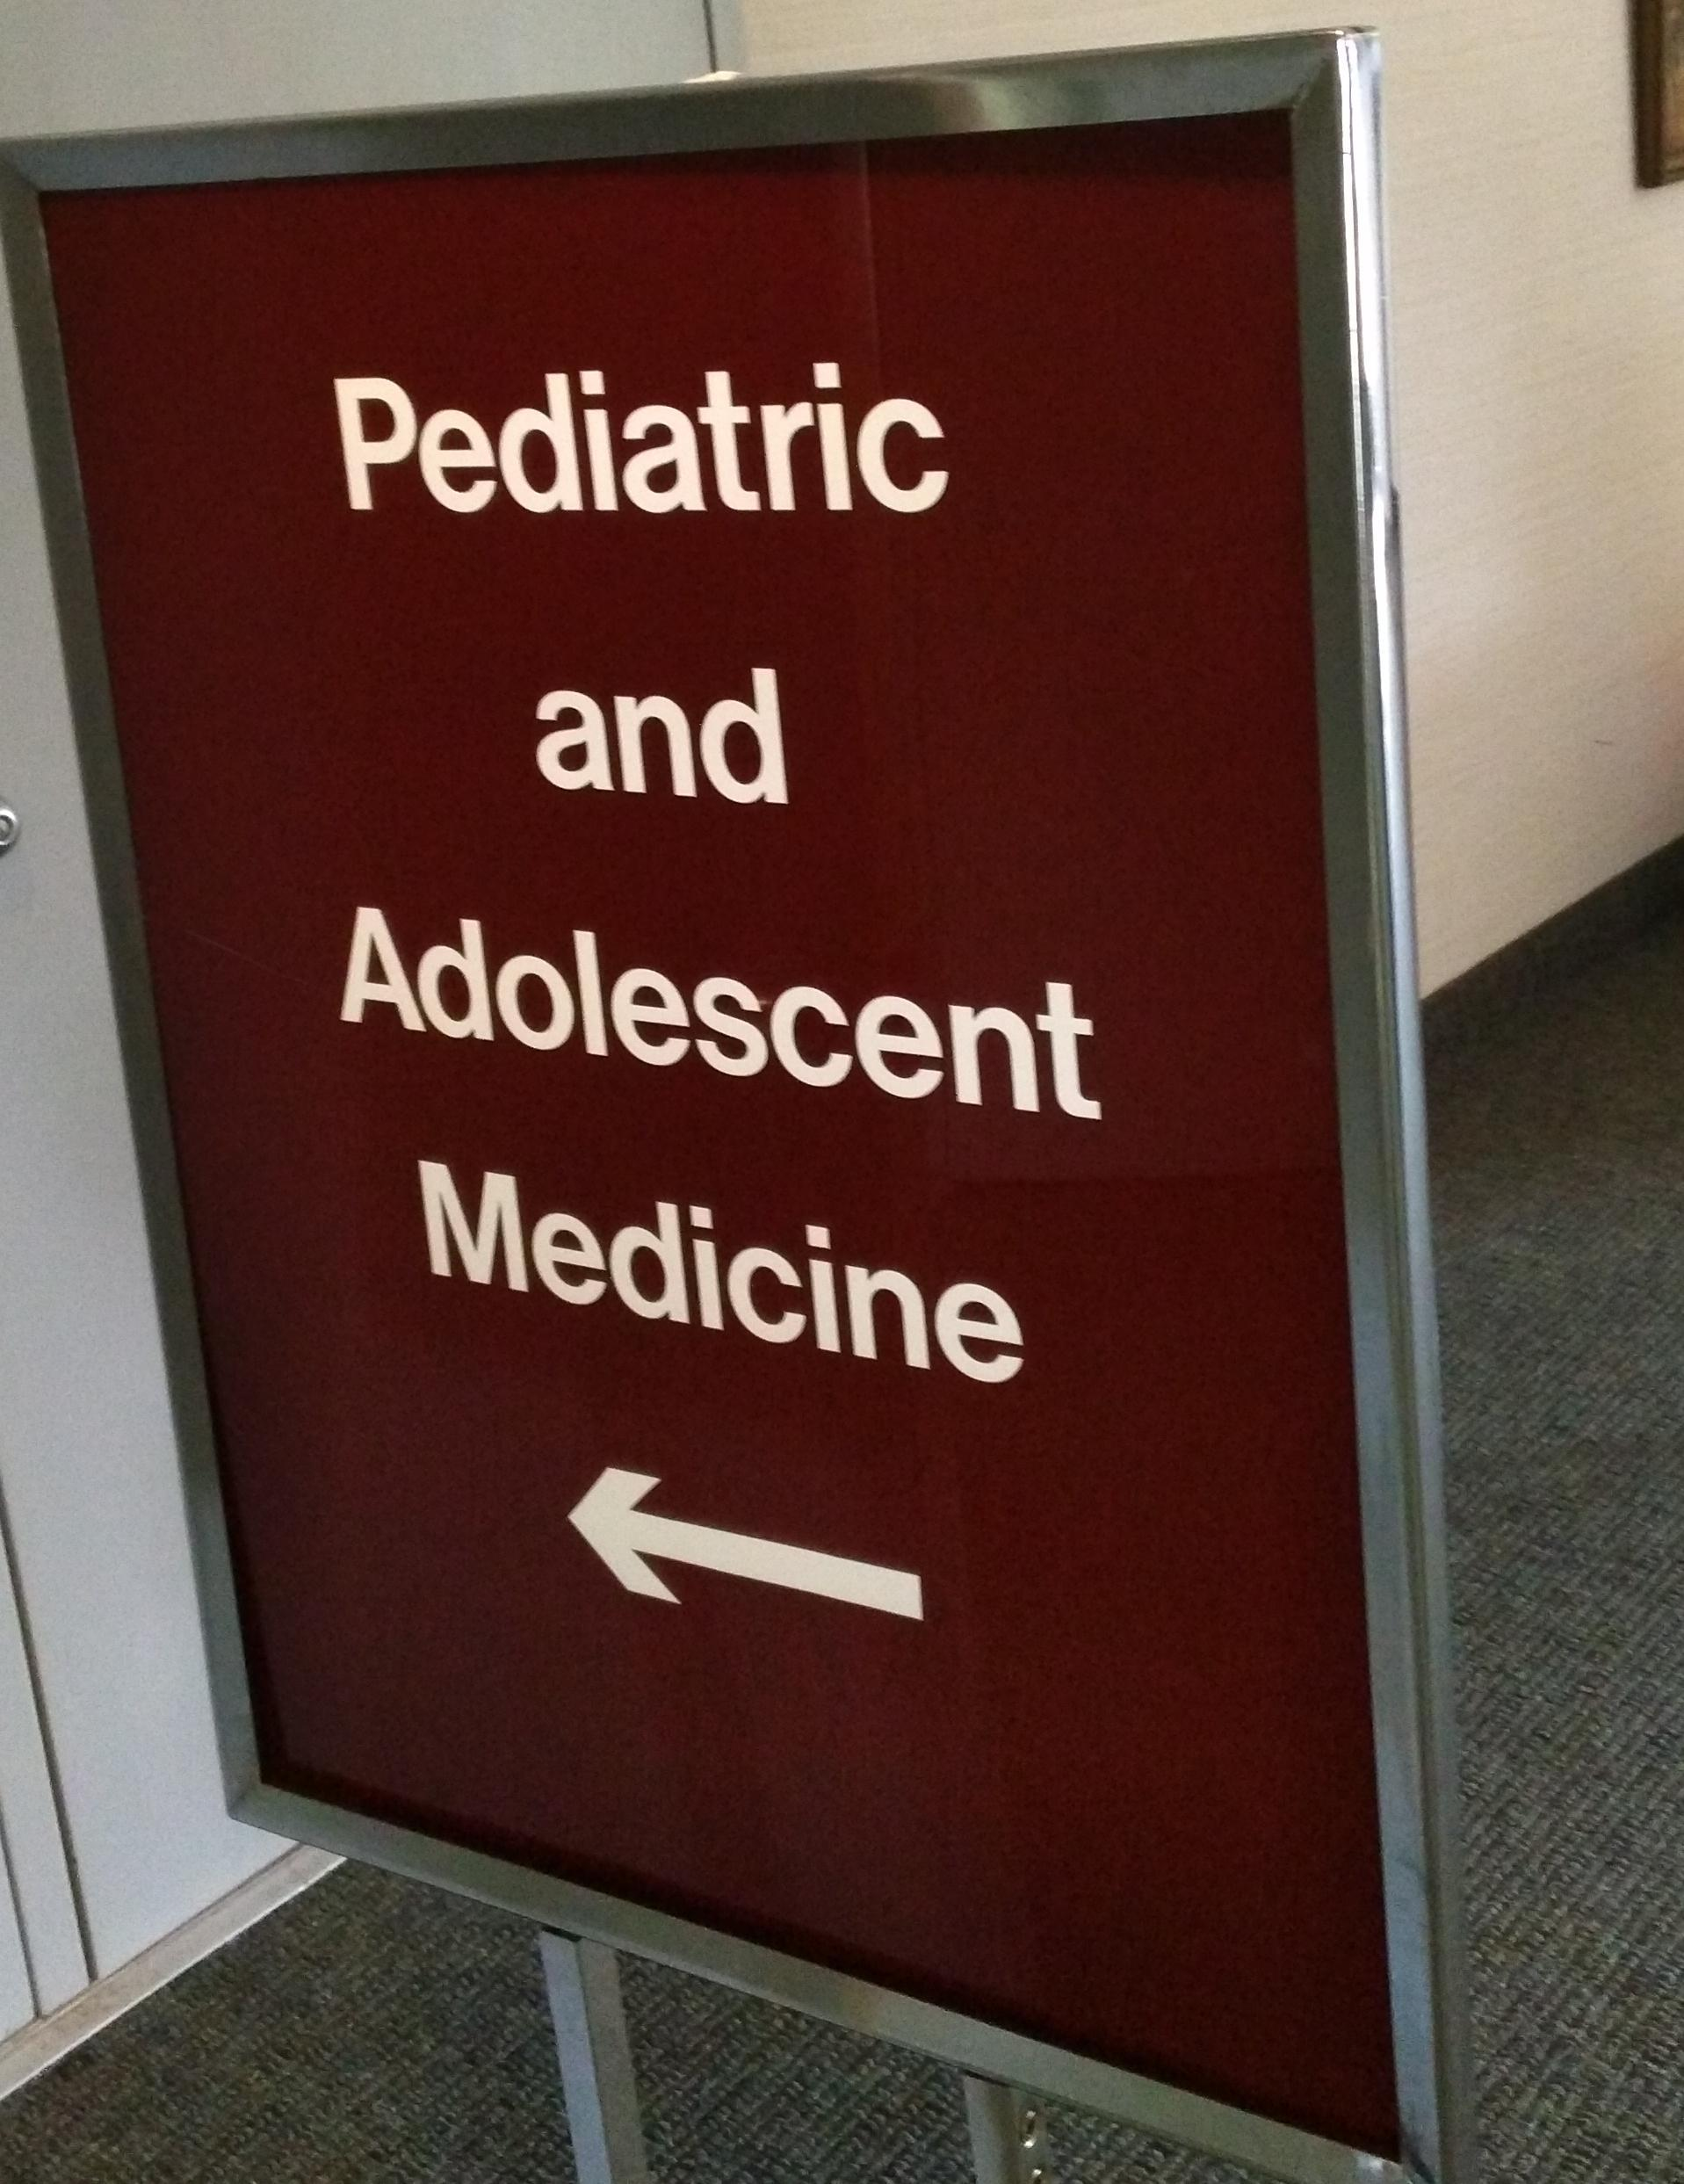sign: (0, 32, 1481, 2180)
